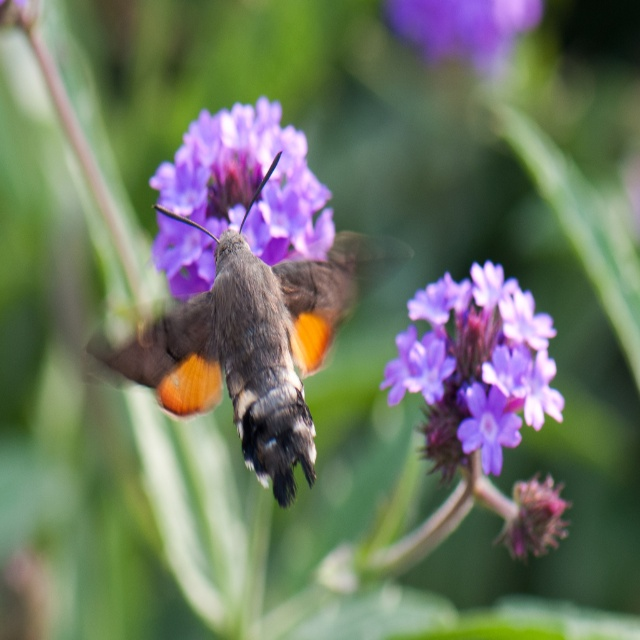Butterfly: (80, 146, 412, 506)
